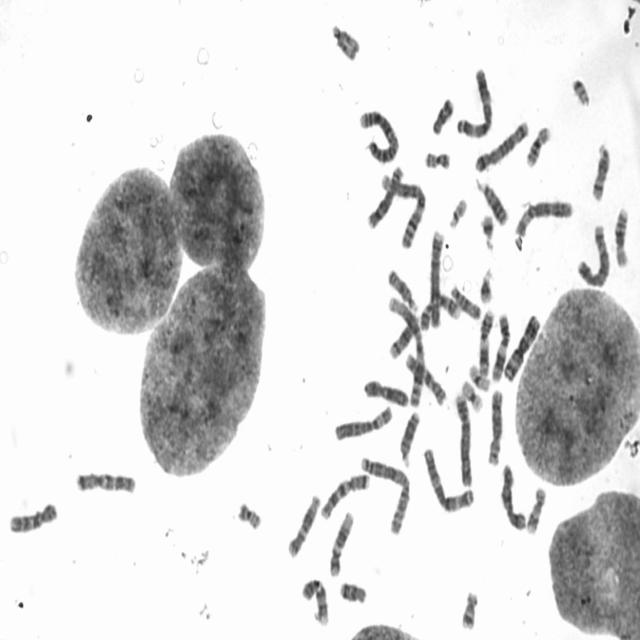A1: (387, 292, 428, 408), (378, 166, 428, 250)
A2: (358, 451, 412, 537), (355, 104, 400, 165)
A3: (421, 442, 476, 514), (454, 62, 494, 140)
B4: (451, 387, 475, 488), (426, 224, 446, 330)
B5: (472, 115, 530, 174), (574, 219, 612, 288)
C10: (402, 348, 448, 407), (7, 496, 60, 536)
C11: (489, 308, 512, 383), (476, 304, 496, 378)
C12: (285, 488, 322, 560), (327, 506, 356, 578)
C6: (512, 194, 575, 239), (332, 400, 394, 443)
C7: (318, 467, 372, 521), (74, 466, 138, 495)
C8: (365, 160, 405, 230), (485, 384, 505, 467)
C9: (418, 288, 463, 332), (298, 572, 330, 627)
D13: (474, 174, 509, 227), (397, 406, 422, 468)
D14: (386, 309, 422, 361), (588, 137, 612, 203)
D15: (385, 263, 420, 313), (329, 18, 362, 62)
E16: (523, 120, 553, 169), (612, 203, 631, 268)
E17: (524, 482, 548, 536), (460, 591, 483, 631)
E18: (429, 91, 456, 137), (337, 576, 369, 606)
F19: (459, 374, 485, 414), (466, 358, 492, 392)
F20: (234, 496, 264, 531), (422, 144, 452, 172)
G21: (478, 208, 496, 251), (477, 262, 495, 305)
G22: (569, 72, 592, 108), (447, 192, 469, 229)
X: (498, 459, 528, 532), (361, 374, 410, 409)
